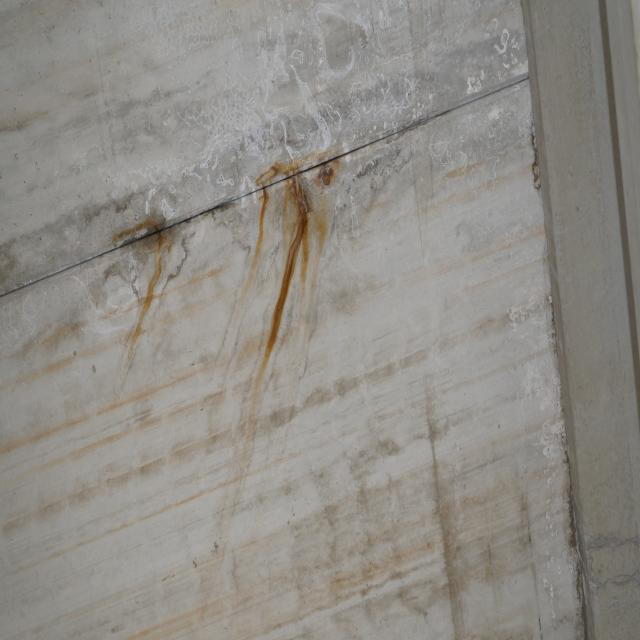corrosion: (93, 143, 365, 434)
